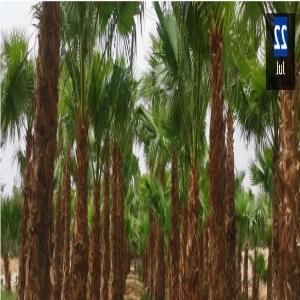palm tree: (59, 0, 144, 299)
